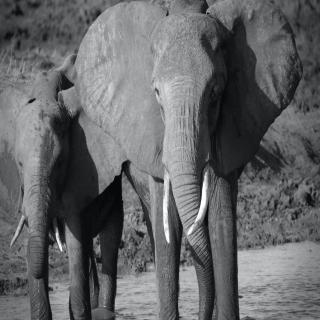Elephant: (72, 1, 305, 320), (0, 60, 125, 320)
